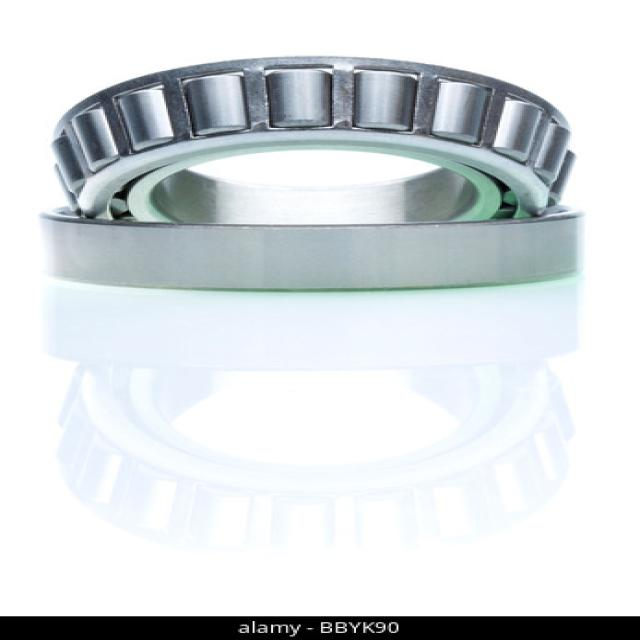Bearing: (25, 51, 593, 294)
